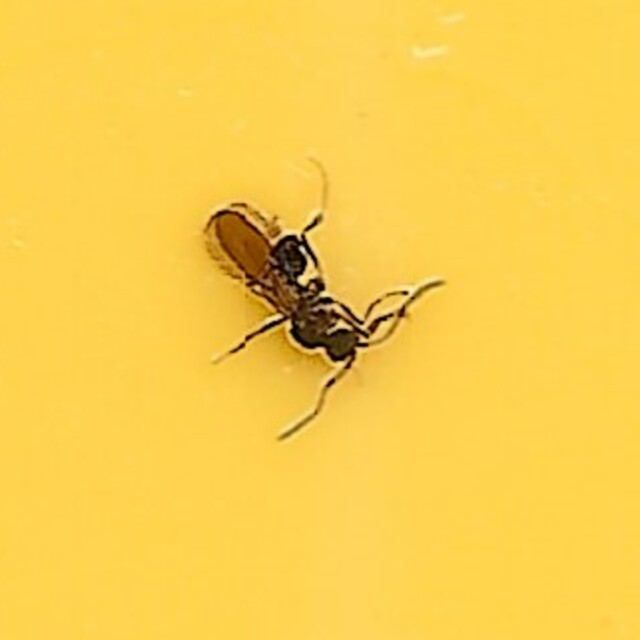Hymenoptera: (199, 199, 441, 441)
